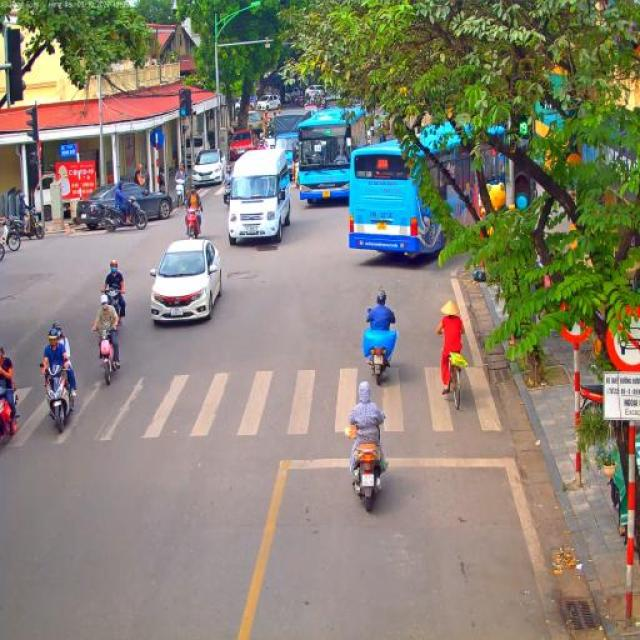bus: (349, 122, 515, 264), (296, 104, 368, 204), (227, 148, 293, 248)
car: (149, 238, 223, 326), (74, 182, 174, 229), (192, 148, 228, 187), (227, 129, 257, 162), (256, 94, 282, 114), (305, 85, 325, 100)
motorcycle: (362, 308, 399, 387), (349, 440, 387, 512), (38, 360, 74, 434), (92, 323, 120, 386), (104, 198, 148, 232), (0, 375, 18, 446), (102, 288, 123, 328), (0, 216, 22, 252), (21, 208, 45, 240), (185, 207, 201, 239), (174, 180, 187, 210), (223, 178, 232, 207), (0, 241, 5, 261)
truck: (271, 108, 315, 173), (232, 110, 264, 141)
